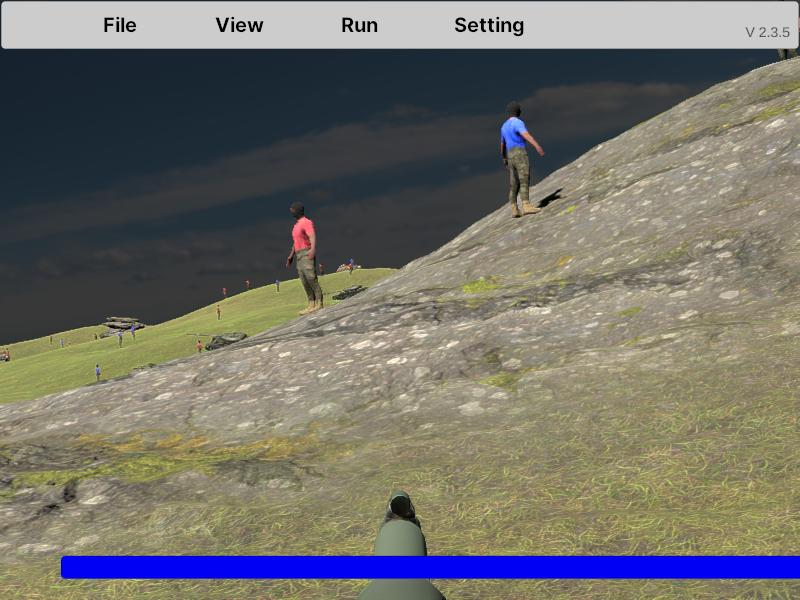Human: (500, 102, 544, 218), (286, 202, 323, 317)
